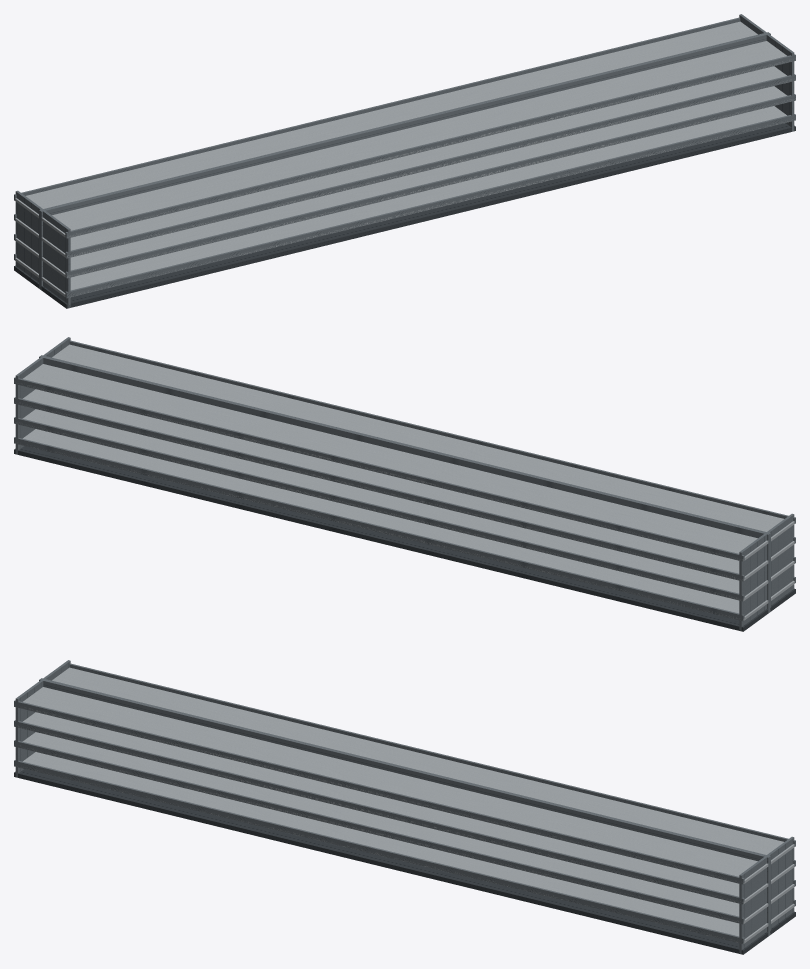
The model's file is Gondola_16x2.obj.
The picture shows the model from 3 angles, top to bottom: view 1: azimuth 30°, elevation 25°; view 2: azimuth 150°, elevation 25°; view 3: azimuth 330°, elevation 25°; orthographic projection.
Visible parts, largest first — view 1: Gondola_16x2; view 2: Gondola_16x2; view 3: Gondola_16x2.
Boxes of the visible parts, x1=… form: Gondola_16x2: x1=14, y1=14, x2=795, y2=308; Gondola_16x2: x1=14, y1=337, x2=795, y2=631; Gondola_16x2: x1=14, y1=660, x2=795, y2=954.
Size of the model in its own units: 16 by 1.65 by 2.
3 materials, 3 textured.
